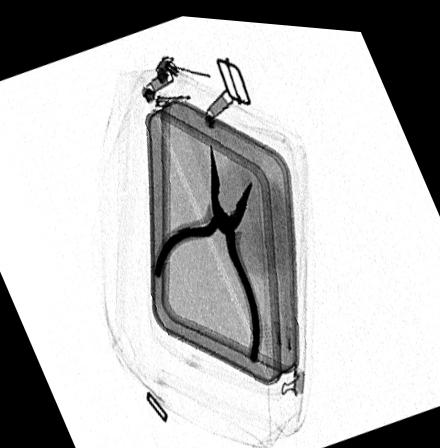Pliers: (149, 140, 260, 362)
